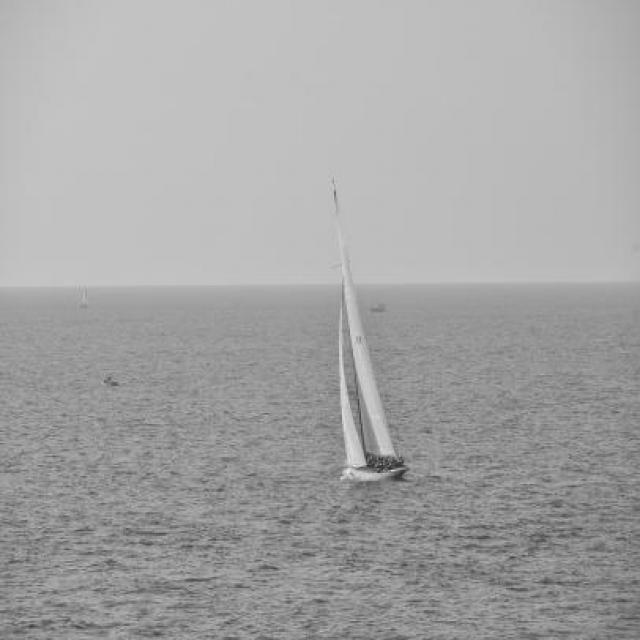ship: (332, 177, 412, 478)
